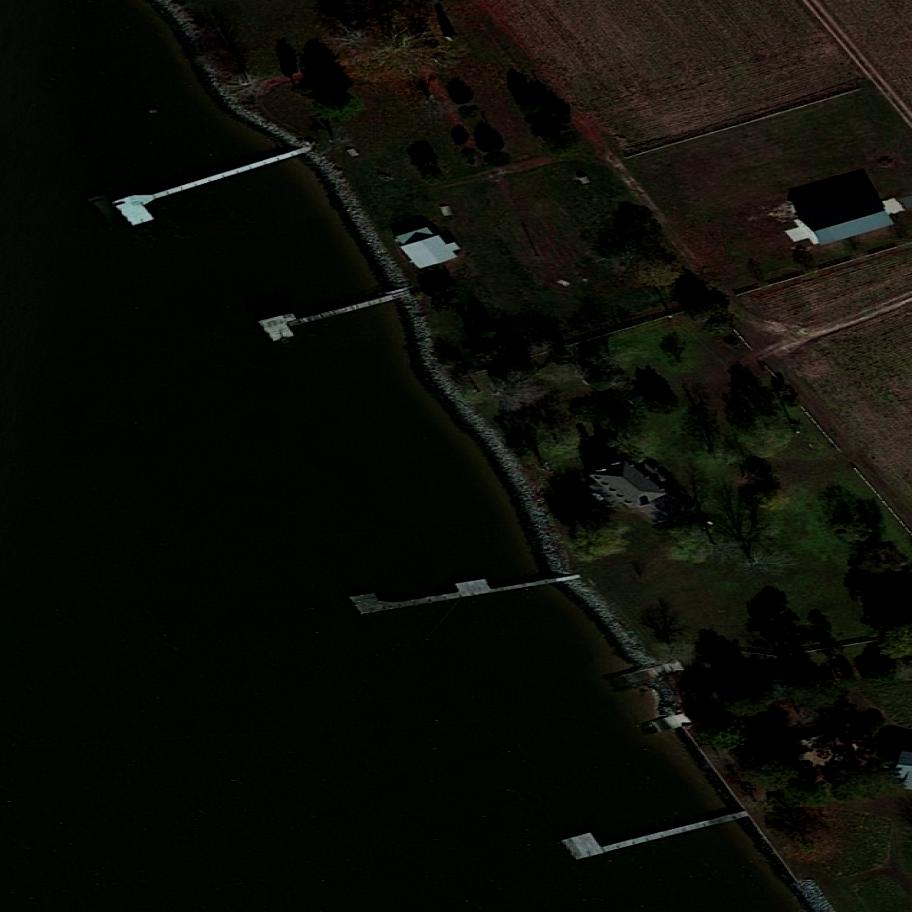ship: (816, 188, 847, 204)
